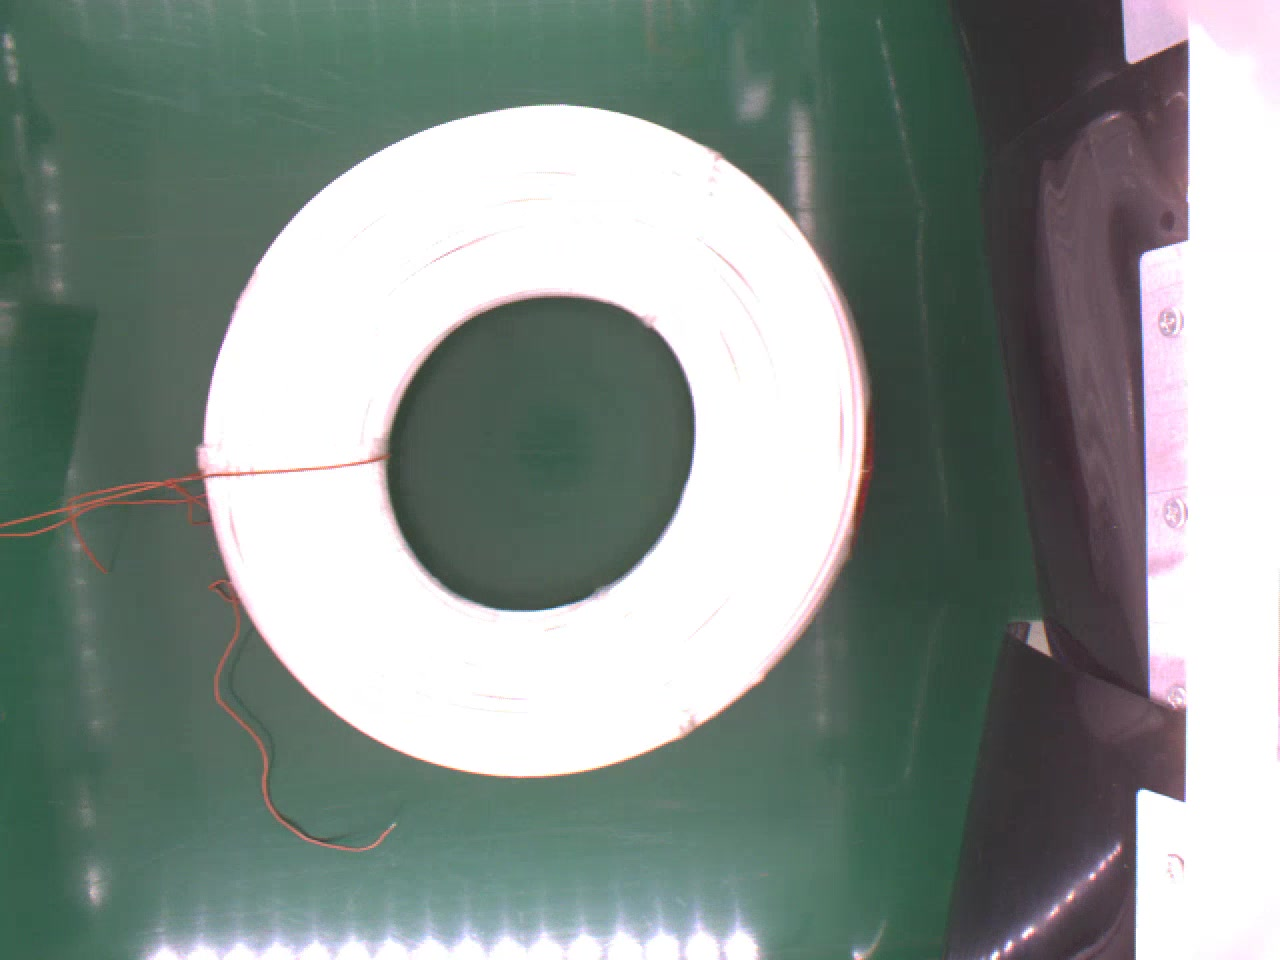white: (202, 102, 880, 773)
